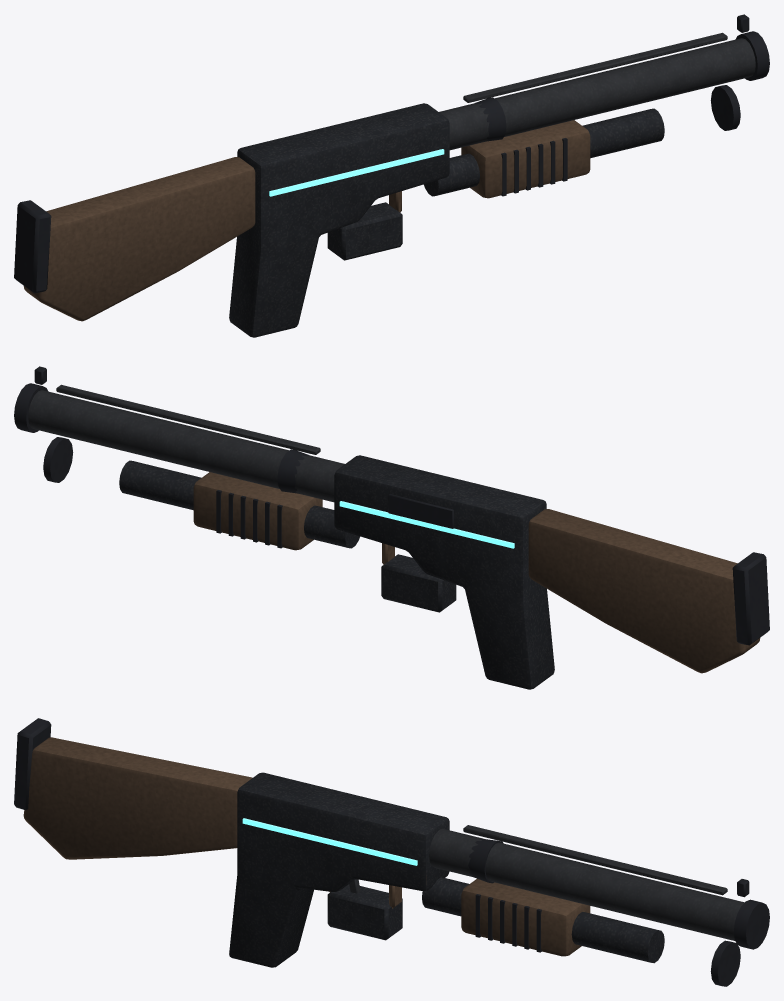
File: shotgun_r2.fbx
3 renders of one model, top to bottom at view 1: azimuth 30°, elevation 25°; view 2: azimuth 150°, elevation 25°; view 3: azimuth 330°, elevation 25°, orthographic.
Visible parts, largest first — view 1: Body, Slide, Magazine, Glow; view 2: Body, Slide, Magazine, Glow; view 3: Body, Slide, Magazine, Glow.
Part boxes in pixels (<box>): Body: <box>14,14,769,337</box>; Slide: <box>461,120,590,198</box>; Magazine: <box>327,202,402,260</box>; Glow: <box>269,149,444,196</box>; Body: <box>14,366,769,689</box>; Slide: <box>193,472,322,550</box>; Magazine: <box>381,554,456,612</box>; Glow: <box>339,501,514,548</box>; Body: <box>14,718,769,986</box>; Slide: <box>461,878,590,956</box>; Magazine: <box>327,884,402,940</box>; Glow: <box>242,818,417,865</box>.
Bounding box in the file's own units: 8.46 × 2.11 × 0.555.
Materials: 2 (1 with a texture image).
